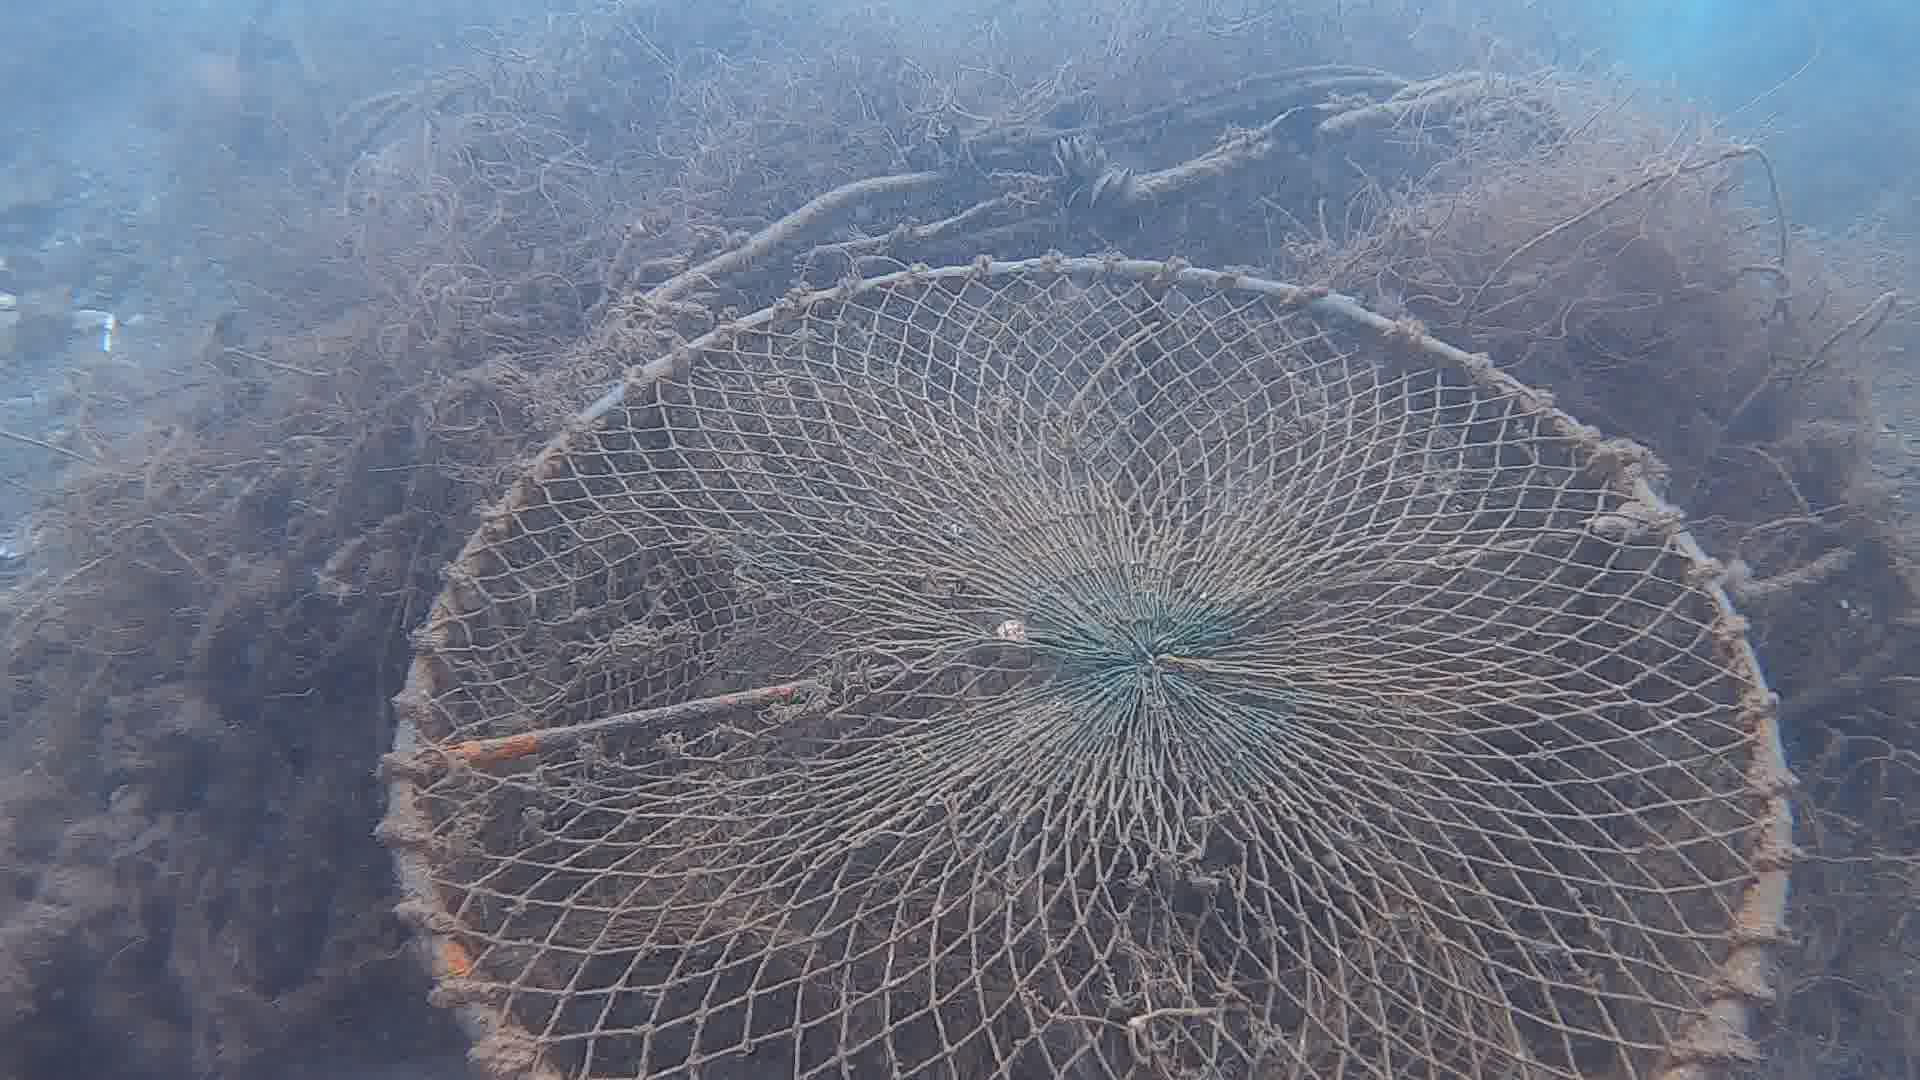circular fish trap: (378, 251, 1797, 1080)
